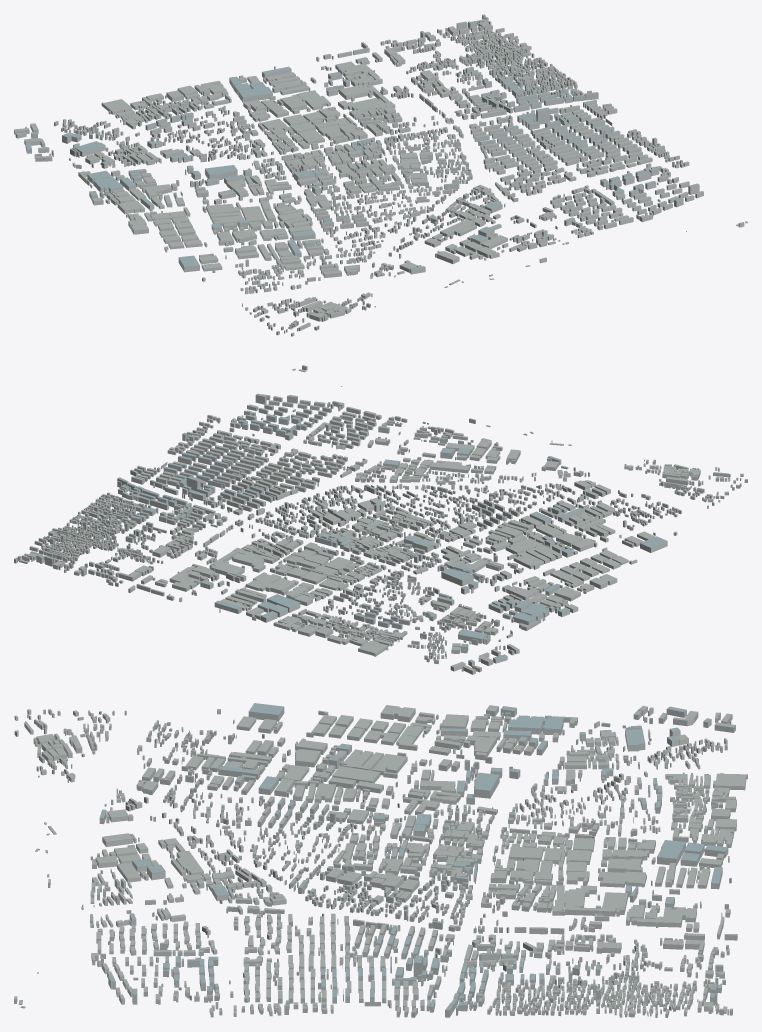
Rendered from far.glb.
3 renders of one model, top to bottom at view 1: azimuth 30°, elevation 25°; view 2: azimuth 150°, elevation 25°; view 3: azimuth 270°, elevation 25°, orthographic. The views are drawn at different scales.
Bounding box in the file's own units: 2135 × 54.4 × 2150.
